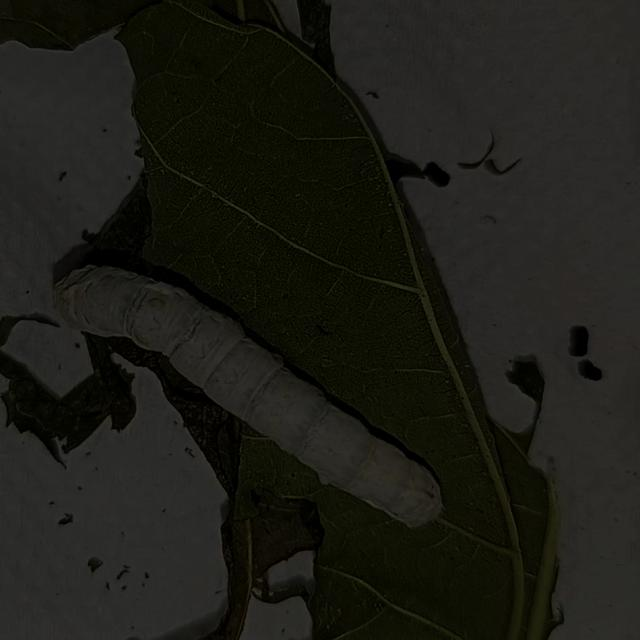Healthy: (39, 254, 451, 548)
